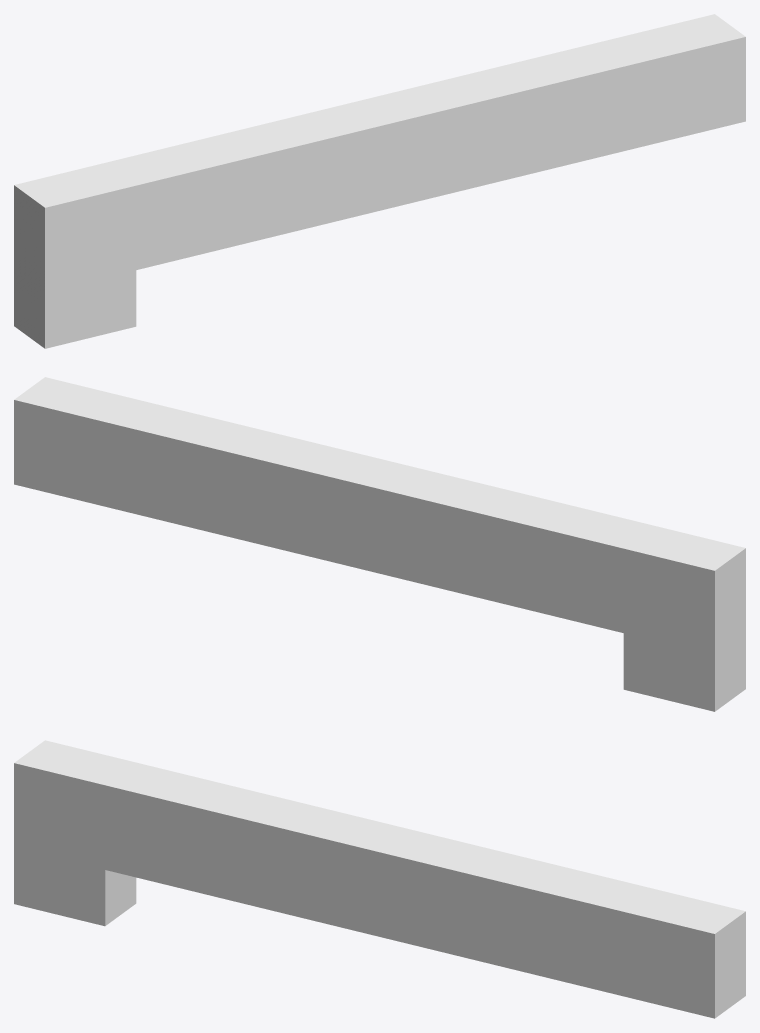
The model's file is foganty_hosszks.glb.
The picture shows the model from 3 angles, top to bottom: view 1: azimuth 30°, elevation 25°; view 2: azimuth 150°, elevation 25°; view 3: azimuth 330°, elevation 25°; orthographic projection.
Parts seen in each view (by area): view 1: handle_standard; view 2: handle_standard; view 3: handle_standard.
Part boxes in pixels (bbox=[...]): handle_standard: bbox=[14, 14, 745, 348]; handle_standard: bbox=[14, 377, 745, 711]; handle_standard: bbox=[14, 740, 745, 1018].
Size of the model in its own units: 0.13 by 0.025 by 0.01.
Materials: 1 (1 with a texture image).
